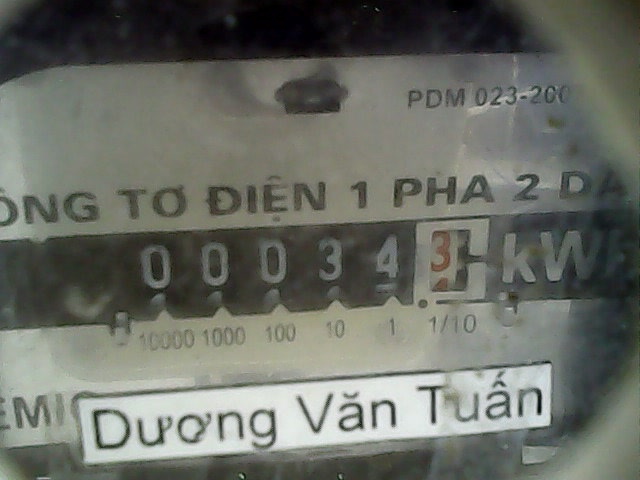phy_plate: (129, 215, 492, 313)
